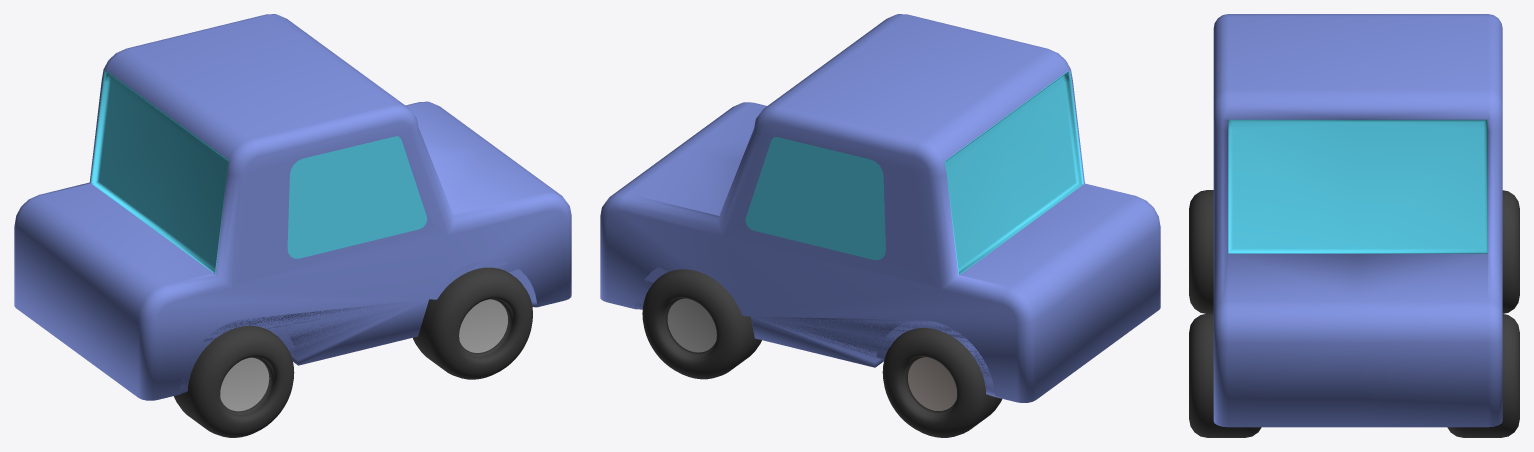
Rendered from Car1.fbx.
The picture shows the model from 3 angles, left to right: view 1: azimuth 30°, elevation 25°; view 2: azimuth 150°, elevation 25°; view 3: azimuth 270°, elevation 25°; orthographic projection. The views are drawn at different scales.
Parts seen in each view (by area): view 1: Car_Wheel.001, Cylinder_7.001, Cylinder_6.001; view 2: Car_Wheel.001, Cylinder_4.001, Cylinder_5.001; view 3: Car_Wheel.001, Cylinder_7.001, Cylinder_6.001, Cylinder_4.001, Cylinder_5.001.
Part boxes in pixels (bbox=[...]): Car_Wheel.001: bbox=[14, 14, 571, 400]; Cylinder_7.001: bbox=[413, 267, 532, 379]; Cylinder_6.001: bbox=[174, 325, 294, 437]; Car_Wheel.001: bbox=[600, 14, 1160, 402]; Cylinder_4.001: bbox=[642, 269, 761, 379]; Cylinder_5.001: bbox=[882, 328, 1002, 437]; Car_Wheel.001: bbox=[1213, 14, 1502, 427]; Cylinder_7.001: bbox=[1189, 313, 1261, 437]; Cylinder_6.001: bbox=[1189, 190, 1213, 313]; Cylinder_4.001: bbox=[1447, 314, 1519, 437]; Cylinder_5.001: bbox=[1502, 190, 1519, 313].
Size of the model in its own units: 413 by 260 by 258.
